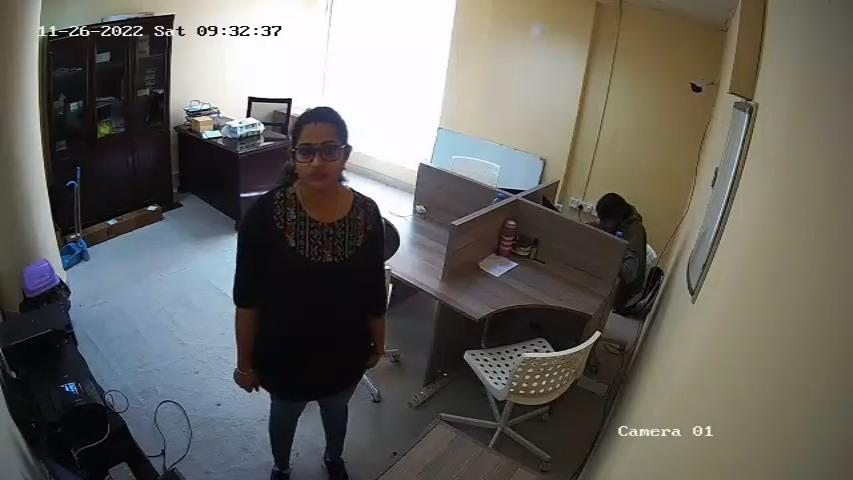no_apron: (273, 192, 362, 387)
